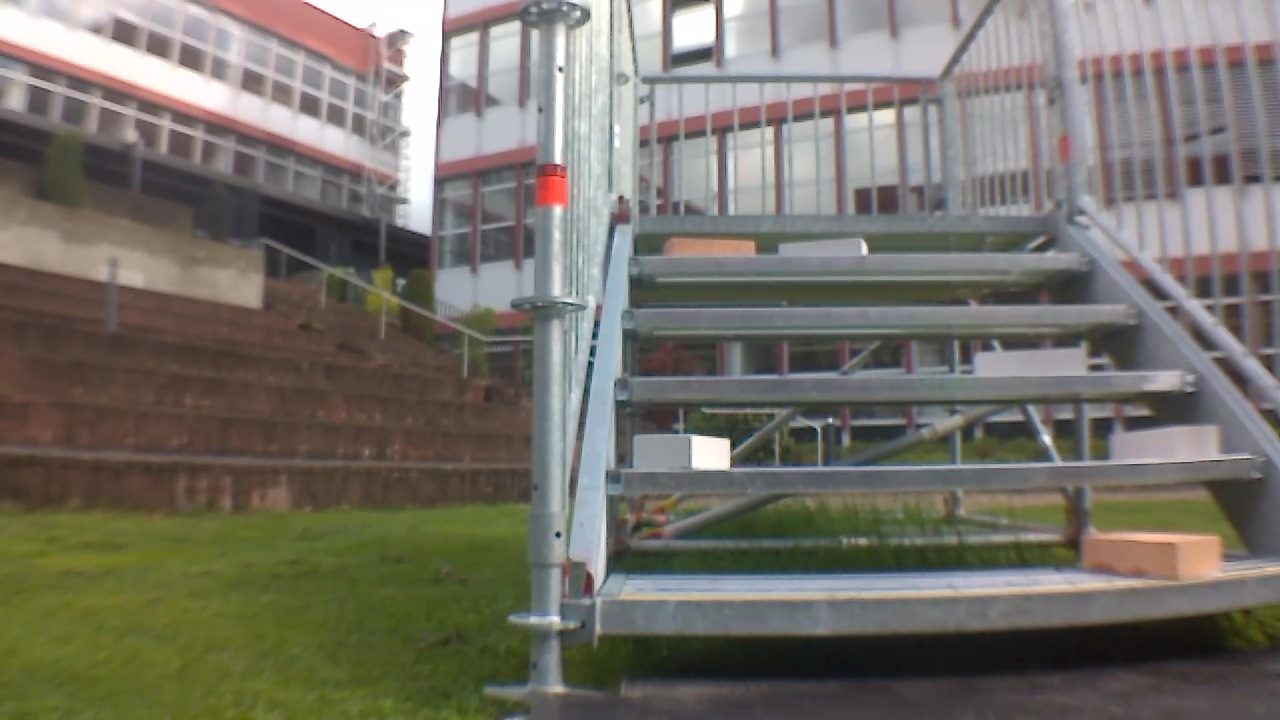brick: (1081, 532, 1220, 580), (1110, 425, 1217, 460), (634, 435, 730, 468), (976, 348, 1085, 376), (664, 238, 753, 257), (779, 237, 868, 255)
edge: (604, 568, 1280, 633), (606, 454, 1271, 490), (614, 370, 1202, 401), (621, 304, 1144, 327), (626, 255, 1093, 272), (634, 214, 1054, 231)
stairs: (503, 2, 1279, 695)
steps: (597, 210, 1280, 641)
